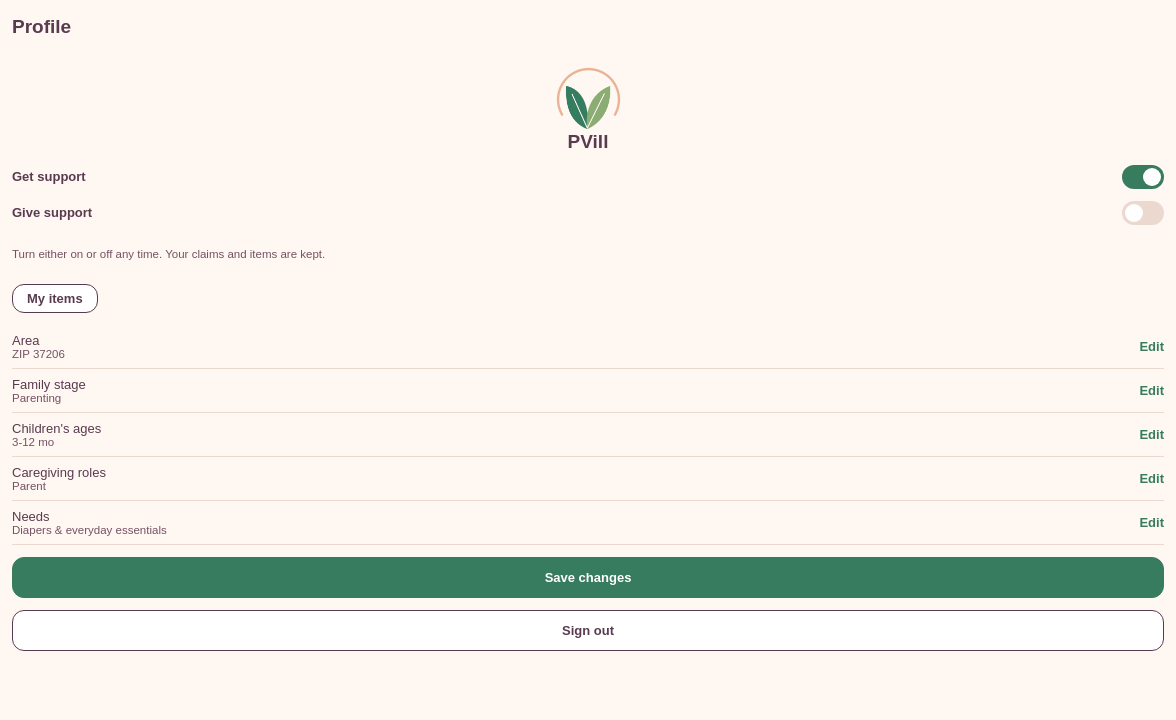
Test: ProfilePage (person) › keeps at least one switch on
Click the switch labelled "Get support" at {"x": 1143, "y": 176}, box [1122,164,1164,188]
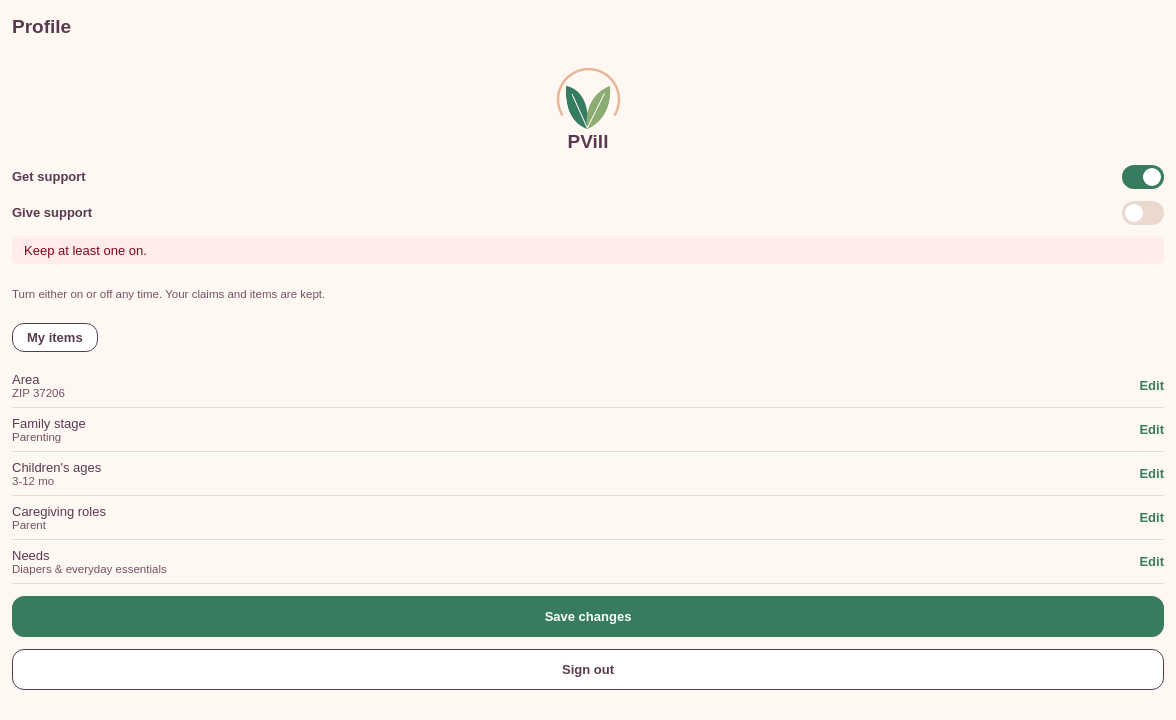
Now the text "Keep at least one on." is shown, box [12,236,1164,264]
